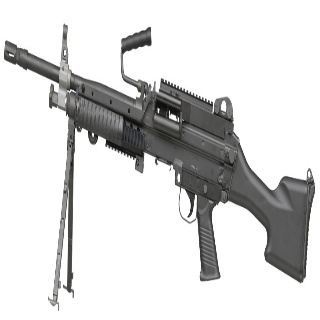rifle: (3, 25, 316, 313)
